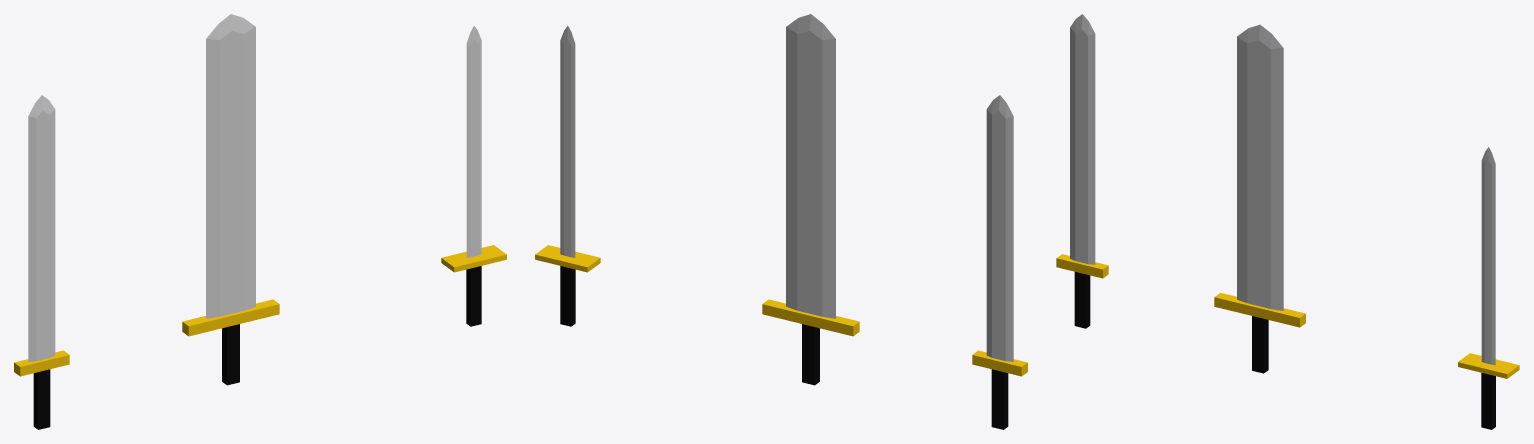
File: Sword.FBX
3 renders of one model, left to right at view 1: azimuth 30°, elevation 25°; view 2: azimuth 150°, elevation 25°; view 3: azimuth 330°, elevation 25°, orthographic. The views are drawn at different scales.
Visible parts, largest first — view 1: Sword-Heavy, Sword, Sword-Slim; view 2: Sword-Heavy, Sword, Sword-Slim; view 3: Sword-Heavy, Sword, Sword-Slim.
Boxes of the visible parts, bbox=[...] form: Sword-Heavy: bbox=[182, 14, 279, 385]; Sword: bbox=[14, 95, 69, 429]; Sword-Slim: bbox=[441, 26, 506, 326]; Sword-Heavy: bbox=[762, 14, 859, 385]; Sword: bbox=[972, 95, 1027, 429]; Sword-Slim: bbox=[535, 26, 600, 326]; Sword-Heavy: bbox=[1214, 24, 1305, 373]; Sword: bbox=[1056, 14, 1108, 328]; Sword-Slim: bbox=[1458, 147, 1519, 429].
Bounding box in the file's own units: 107 × 78.24 × 5.02.
